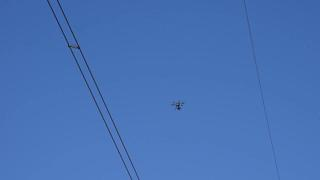UAV: (170, 101, 186, 111)
